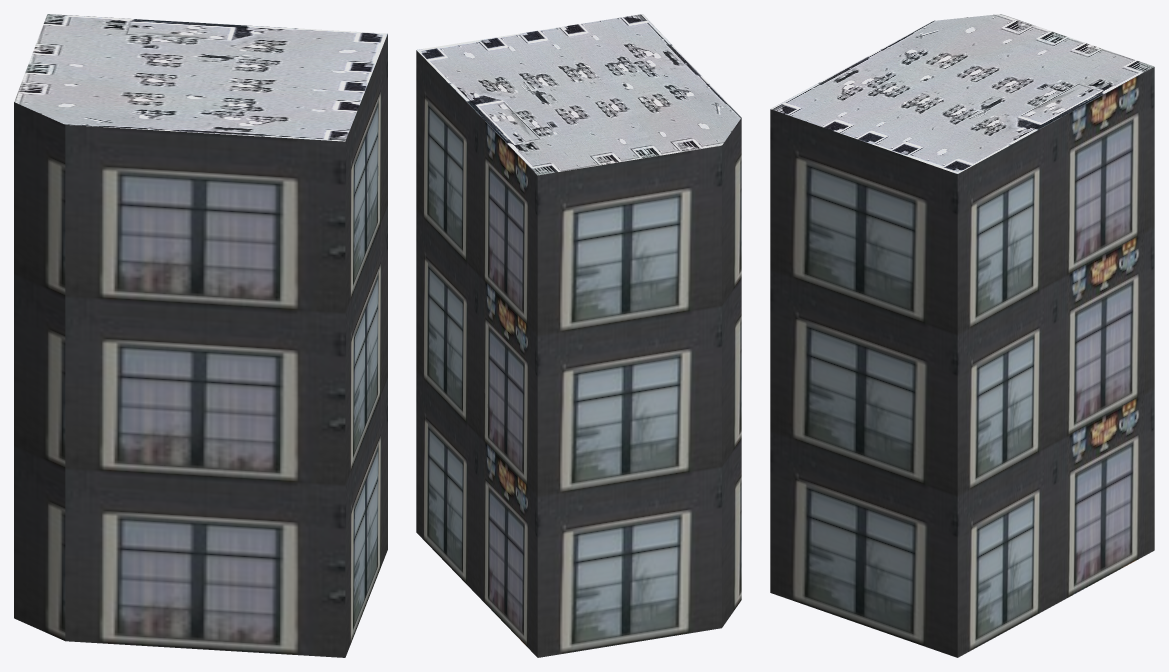
The model's file is ResTex__3442.fbx.
3 views of the same model, side by side, from view 1: azimuth 30°, elevation 25°; view 2: azimuth 150°, elevation 25°; view 3: azimuth 270°, elevation 25° (orthographic). The views are drawn at different scales.
Parts seen in each view (by area): view 1: CityEngineMaterial_22_m, CityEngineMaterial_8_m; view 2: CityEngineMaterial_22_m, CityEngineMaterial_8_m; view 3: CityEngineMaterial_22_m, CityEngineMaterial_8_m.
Part boxes in pixels (x1=…): CityEngineMaterial_22_m: x1=14, y1=34, x2=387, y2=657; CityEngineMaterial_8_m: x1=14, y1=14, x2=387, y2=141; CityEngineMaterial_22_m: x1=416, y1=50, x2=741, y2=657; CityEngineMaterial_8_m: x1=416, y1=14, x2=741, y2=175; CityEngineMaterial_22_m: x1=770, y1=67, x2=1154, y2=657; CityEngineMaterial_8_m: x1=770, y1=14, x2=1154, y2=173.
Size of the model in its own units: 6.39 by 9 by 6.48.
2 materials, 2 textured.
